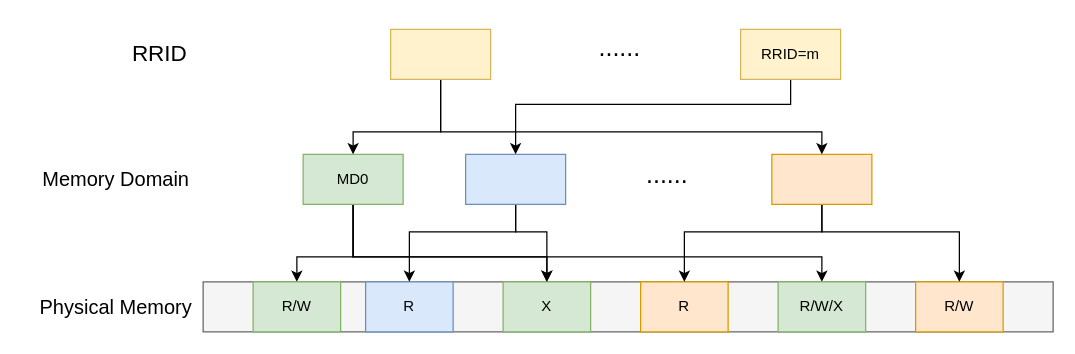
Image size: 1075x354. Some labels were removed from this diagram. The centre of each missing label's shape, as x and y in pixels:
MD1: point (515, 178)
MDn: point (821, 178)
RRID=0: point (440, 53)
